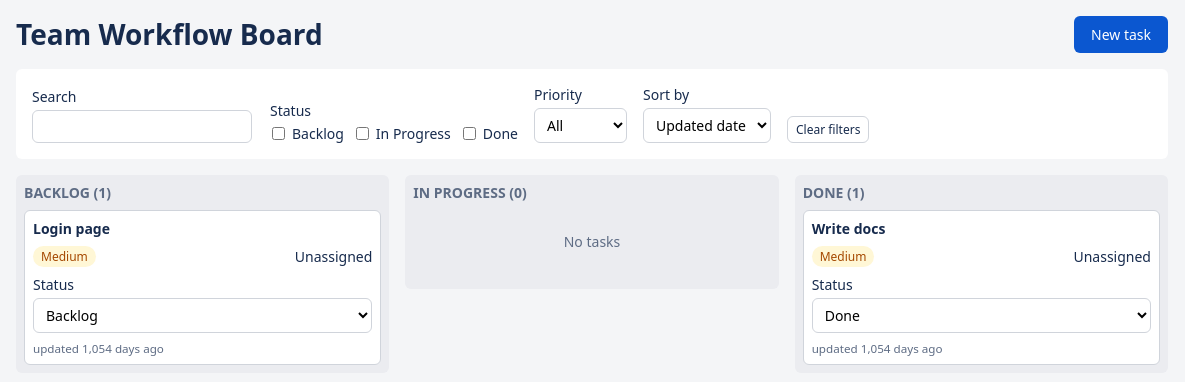
filters tasks and keeps the filters in the URL
Type "login" into the search field labelled "Search" at (142,126), box x1=32 y1=110 x2=252 y2=143
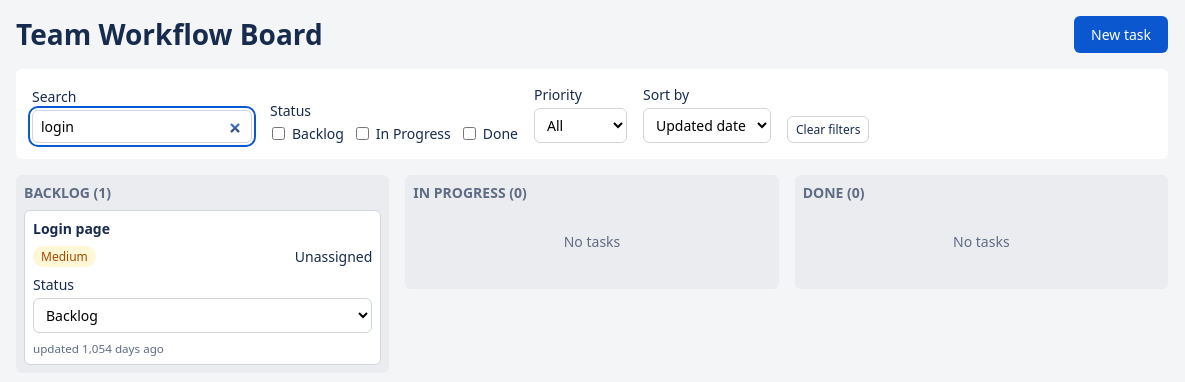
Expected: the button "Login page" is shown, x1=33 y1=219 x2=372 y2=238
Expected: the button "Write docs" is gone
Click the checkbox labelled "Done" at (469,134), box x1=463 y1=127 x2=476 y2=140
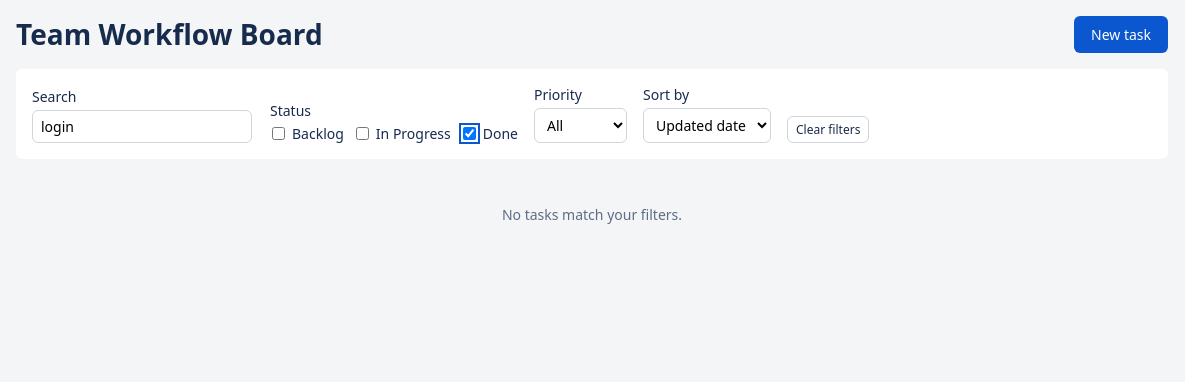
Expected: the text "No tasks match your filters." is shown, x1=502 y1=205 x2=682 y2=224
Click the button "Clear filters" at (828,130), box x1=787 y1=116 x2=869 y2=143
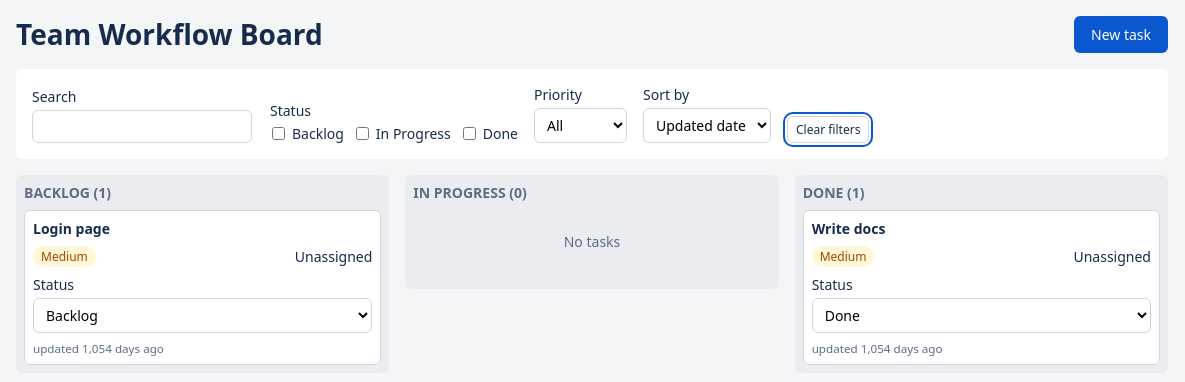
Expected: the button "Write docs" is shown, x1=812 y1=219 x2=1151 y2=238
